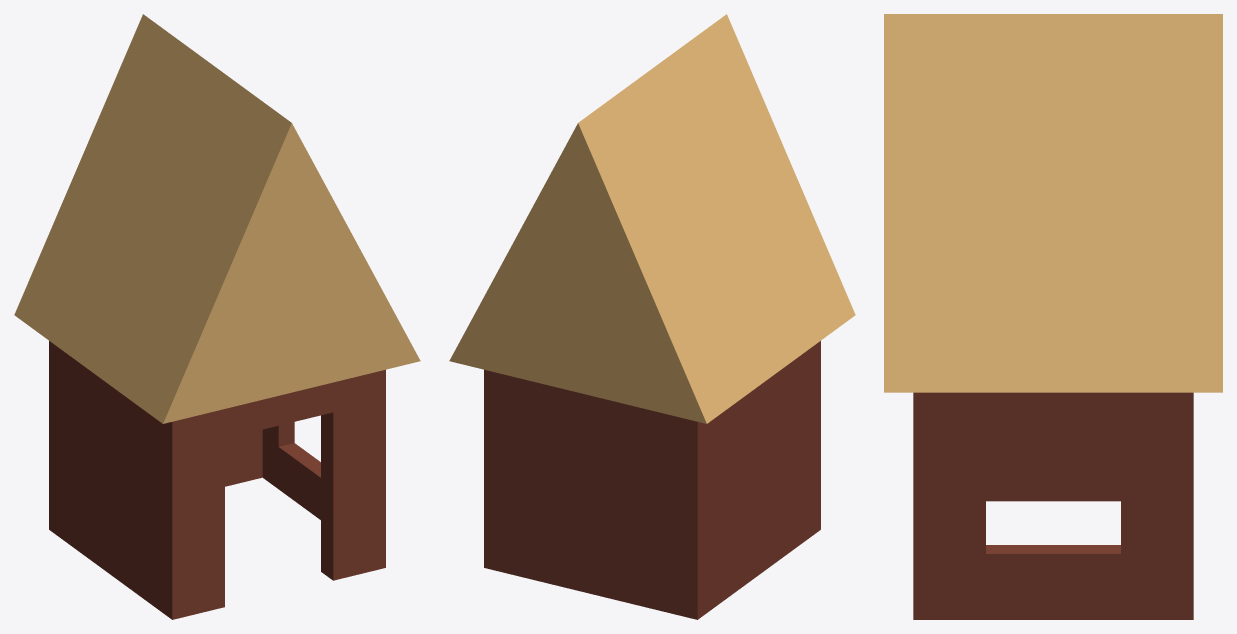
Rendered from house.fbx.
3 renders of one model, left to right at view 1: azimuth 30°, elevation 25°; view 2: azimuth 150°, elevation 25°; view 3: azimuth 270°, elevation 25°, orthographic. The views are drawn at different scales.
Parts seen in each view (by area): view 1: Cube.001, Cube; view 2: Cube.001, Cube; view 3: Cube.001, Cube.
Part boxes in pixels (x1,y1,x2,y2): Cube.001: (14,14,420,423); Cube: (49,341,385,619); Cube.001: (449,14,855,423); Cube: (484,341,820,619); Cube.001: (884,14,1222,392); Cube: (913,392,1193,619).
Size of what is drawn, in the model's own units: 241 by 430 by 241.
